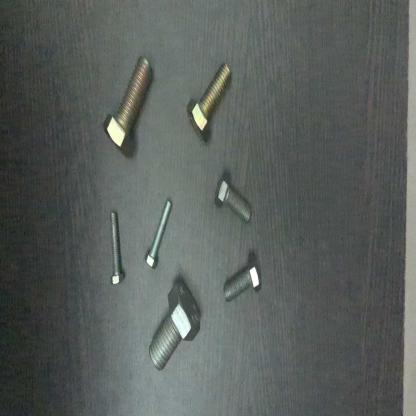Bolts: (147, 274, 205, 391), (100, 53, 160, 164), (182, 56, 242, 146), (207, 169, 255, 232), (143, 194, 175, 276), (222, 251, 266, 309), (105, 213, 133, 291)
